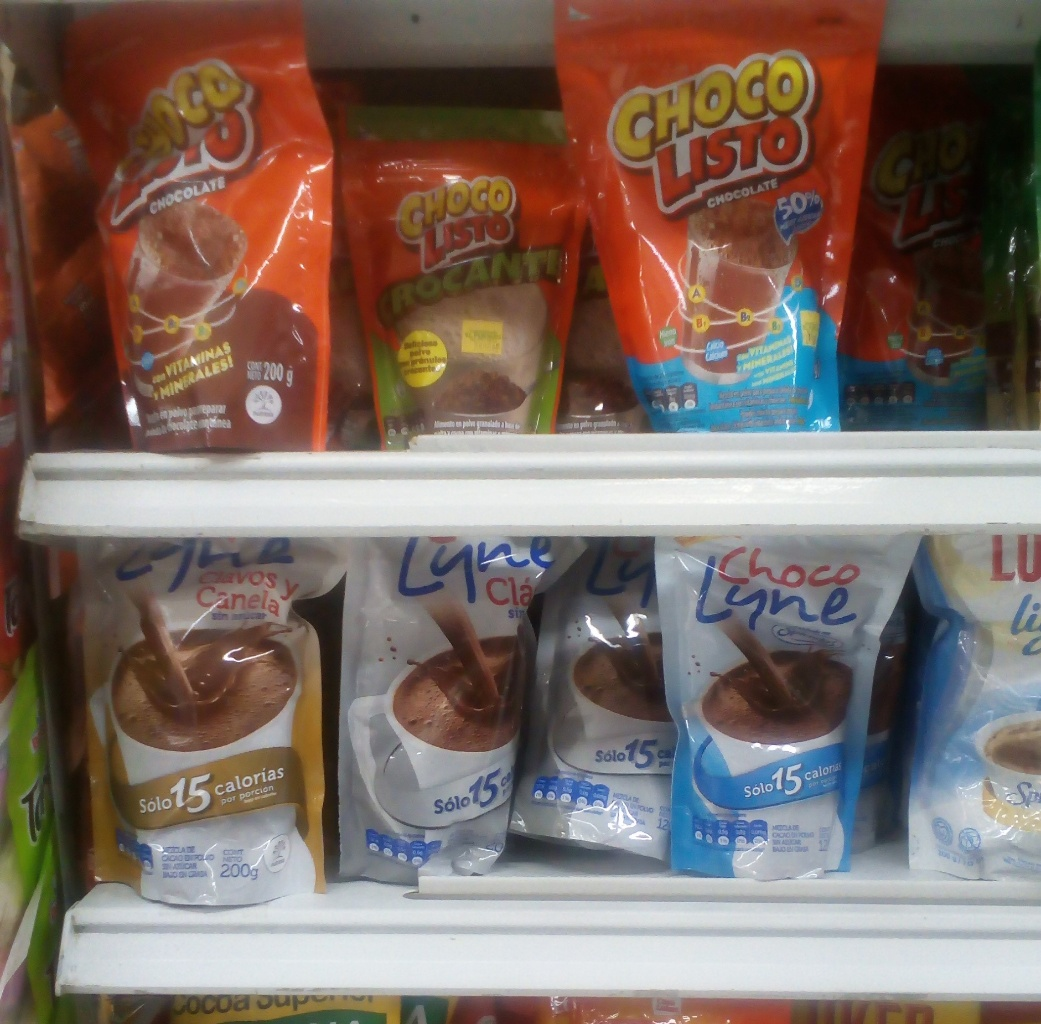COL0170102DYP10000: (329, 104, 586, 455)
COL0170103DYP20000: (33, 7, 340, 455)
COL0170104DYP20000: (551, 0, 883, 434)
